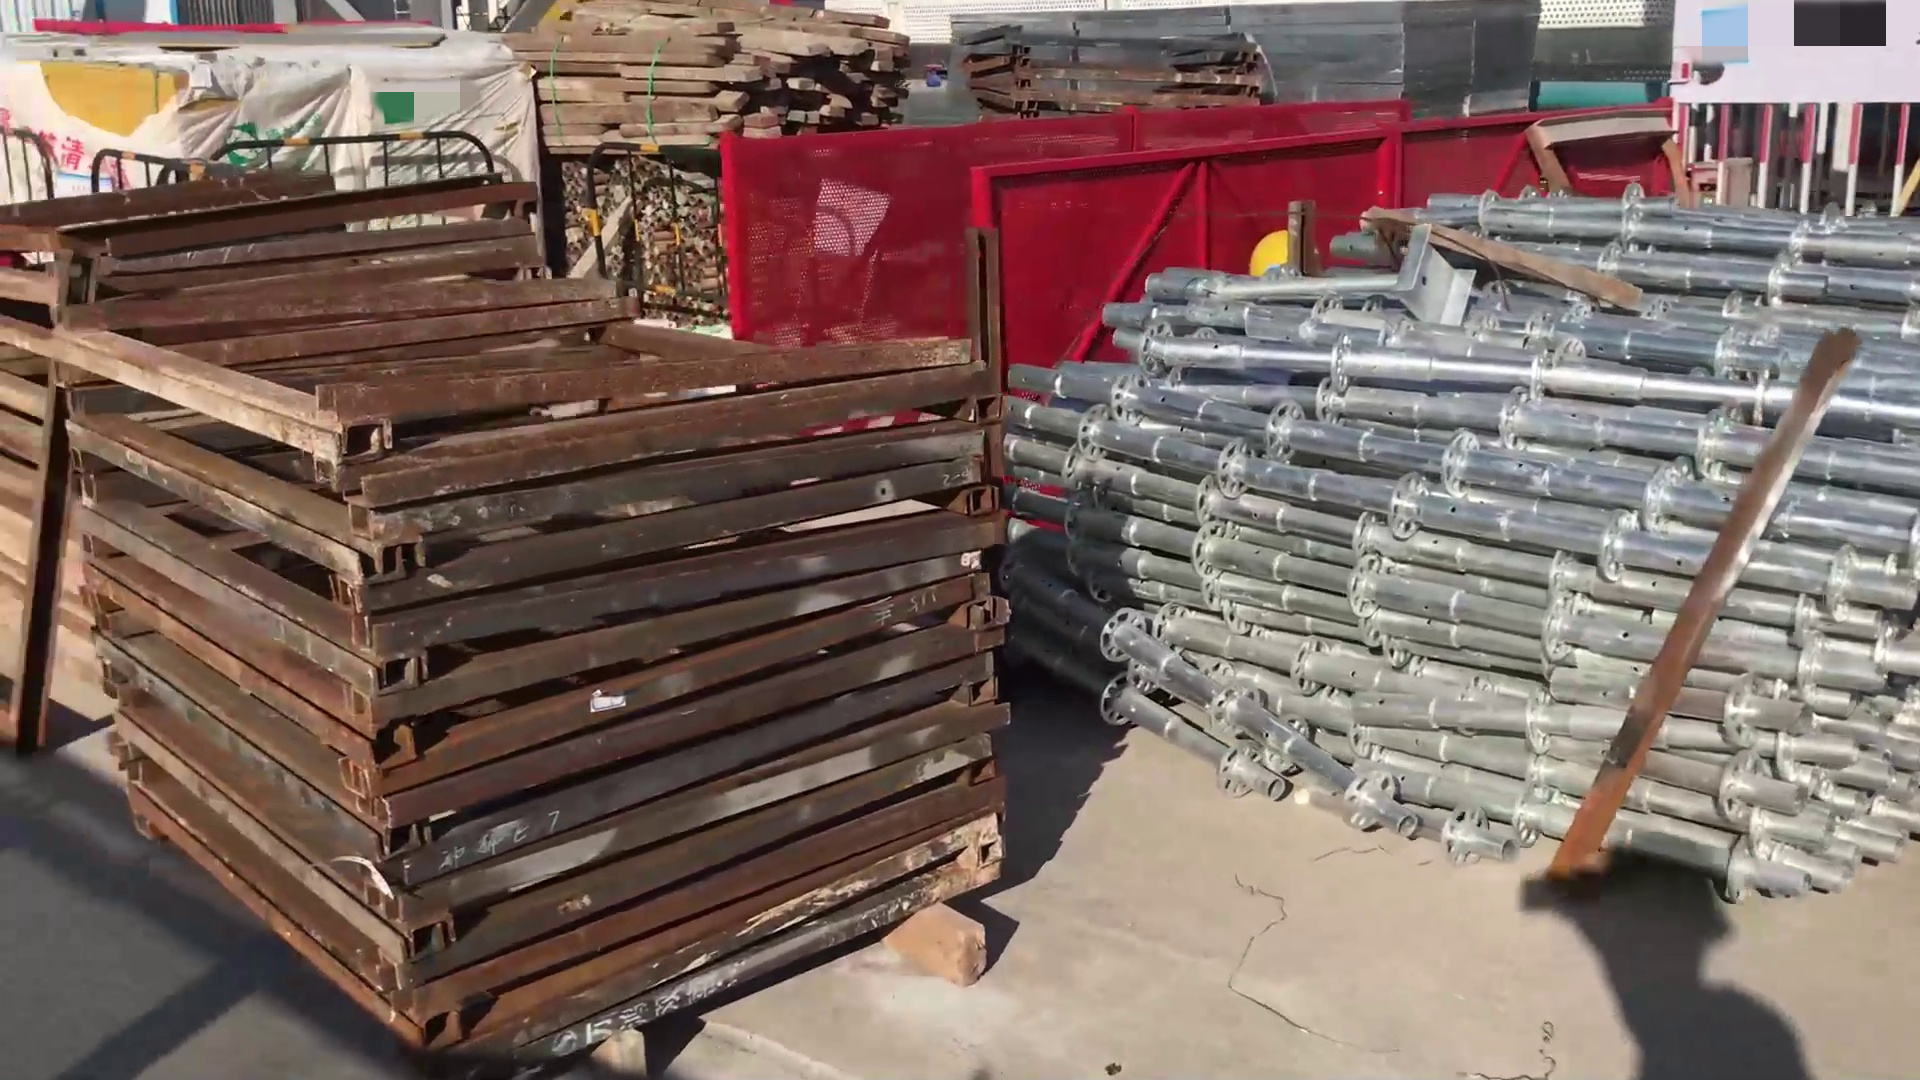scaffold: (1, 187, 1055, 1056), (1077, 277, 1909, 884)
wood: (529, 1, 913, 154)
